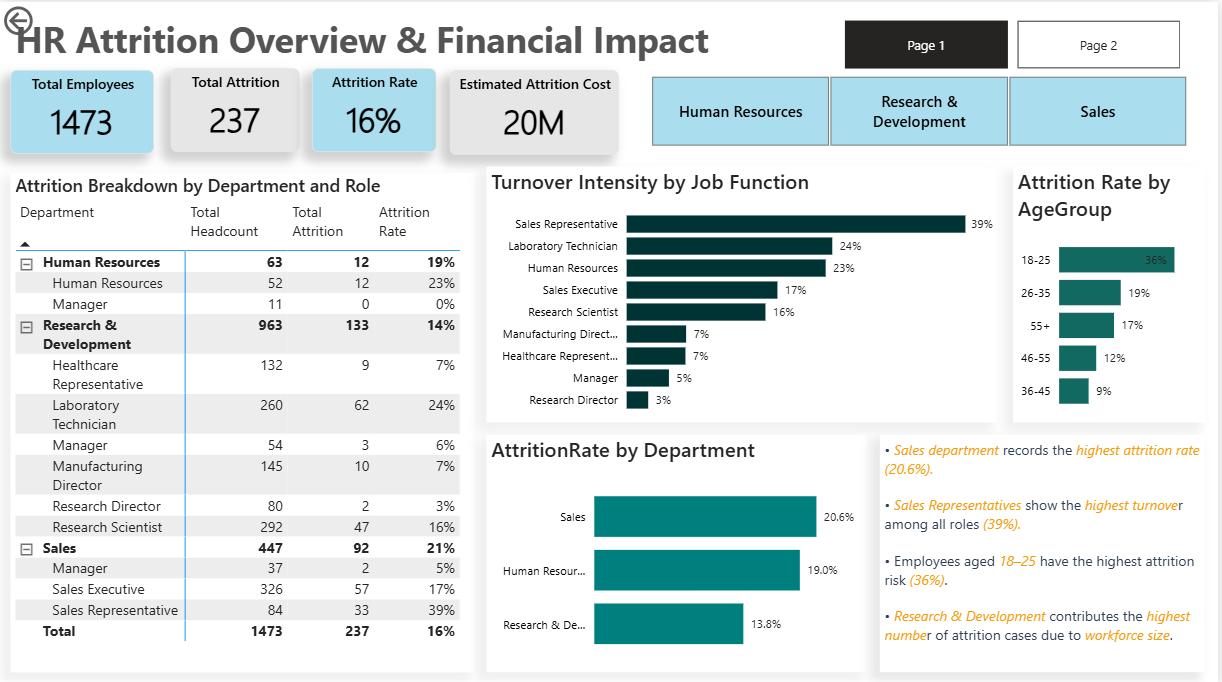

What the dashboard file says about the page in this screenshot:
{"tool":"powerbi","page":{"name":"Page 1","canvas":[1280,720],"ordinal":0},"visuals":[{"type":"card","title":"Total Employees","fields":{"Values":["HR_Analytics.Total Headcount"]},"box":[11,72.3,150.9,88],"z":0},{"type":"card","title":"Total Attrition","fields":{"Values":["HR_Analytics.Total Attrition"]},"box":[180.8,70.7,135.2,88],"z":1000},{"type":"card","title":"Attrition Rate","fields":{"Values":["HR_Analytics.Attrition Rate"]},"box":[328.5,70.7,130.5,88],"z":2000},{"type":"card","title":"Estimated Attrition Cost","fields":{"Values":["HR_Analytics.Estimated Attrition Cost"]},"box":[473.1,72.3,177.6,89.6],"z":3000},{"type":"actionButton","box":[0,0,100,40],"z":4000},{"type":"textbox","box":[11,7.9,746.6,62.9],"z":5000},{"type":"pageNavigator","box":[888.1,20.4,353.7,50.3],"z":6000},{"type":"pivotTable","title":"Attrition Breakdown by Department and Role","fields":{"Rows":["HR_Analytics.Department","HR_Analytics.JobRole"],"Values":["HR_Analytics.Total Headcount","HR_Analytics.Total Attrition","HR_Analytics.Attrition Rate"]},"box":[11,179.2,487.3,525],"z":7000},{"type":"clusteredBarChart","title":"Turnover Intensity by Job Function","fields":{"Category":["HR_Analytics.JobRole"],"Y":["HR_Analytics.Attrition Rate"]},"box":[511.6,173.7,536.8,268.4],"z":8000},{"type":"shape","box":[620.9,600.4,177.6,33],"z":9000},{"type":"textbox","box":[633.5,603.6,152.5,29.9],"z":10000},{"type":"clusteredBarChart","fields":{"Category":["HR_Analytics.Department"],"Y":["HR_Analytics.AttritionRate"]},"box":[511.6,454.7,399.5,249.5],"z":11000},{"type":"barChart","fields":{"Category":["HR_Analytics.AgeGroup"],"Y":["HR_Analytics.Attrition Rate"]},"box":[1064.2,173.7,202.1,268.4],"z":12000},{"type":"textbox","box":[925.3,454.7,341.1,249.5],"z":13000},{"type":"slicer","fields":{"Values":["HR_Analytics.Department"]},"box":[659.6,71.6,611,86.5],"z":14000}]}

Visuals, with their boxes in screenshot pixels (x1, y1, x2, y2), scaled from the page's 1280x720 canvas onto the 1222x682 screenshot:
"Total Employees" card: bbox=(11, 68, 155, 152)
"Total Attrition" card: bbox=(173, 67, 302, 150)
"Attrition Rate" card: bbox=(314, 67, 438, 150)
"Estimated Attrition Cost" card: bbox=(452, 68, 621, 153)
actionButton: bbox=(0, 0, 95, 38)
textbox: bbox=(11, 7, 723, 67)
pageNavigator: bbox=(848, 19, 1186, 67)
"Attrition Breakdown by Department and Role" pivotTable: bbox=(11, 170, 476, 667)
"Turnover Intensity by Job Function" clusteredBarChart: bbox=(488, 165, 1001, 419)
shape: bbox=(593, 569, 762, 600)
textbox: bbox=(605, 572, 750, 600)
clusteredBarChart - HR_Analytics.Department x HR_Analytics.AttritionRate: bbox=(488, 431, 870, 667)
barChart - HR_Analytics.AgeGroup x HR_Analytics.Attrition Rate: bbox=(1016, 165, 1209, 419)
textbox: bbox=(883, 431, 1209, 667)
slicer - HR_Analytics.Department: bbox=(630, 68, 1213, 150)
